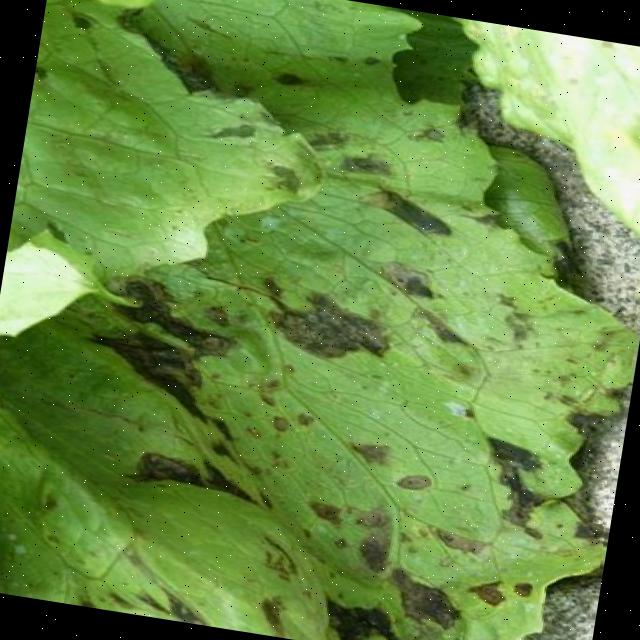Healthy: (54, 228, 490, 549)
